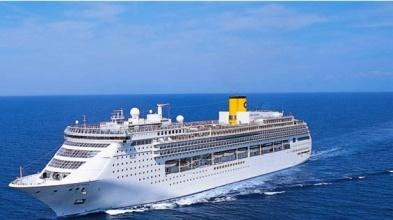youlun: (7, 92, 316, 216)
